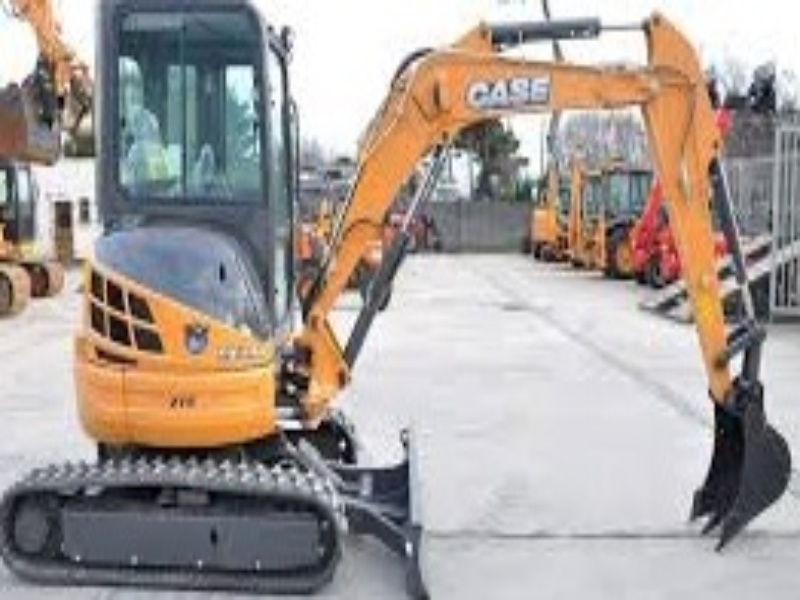wajueji: (22, 3, 498, 600)
